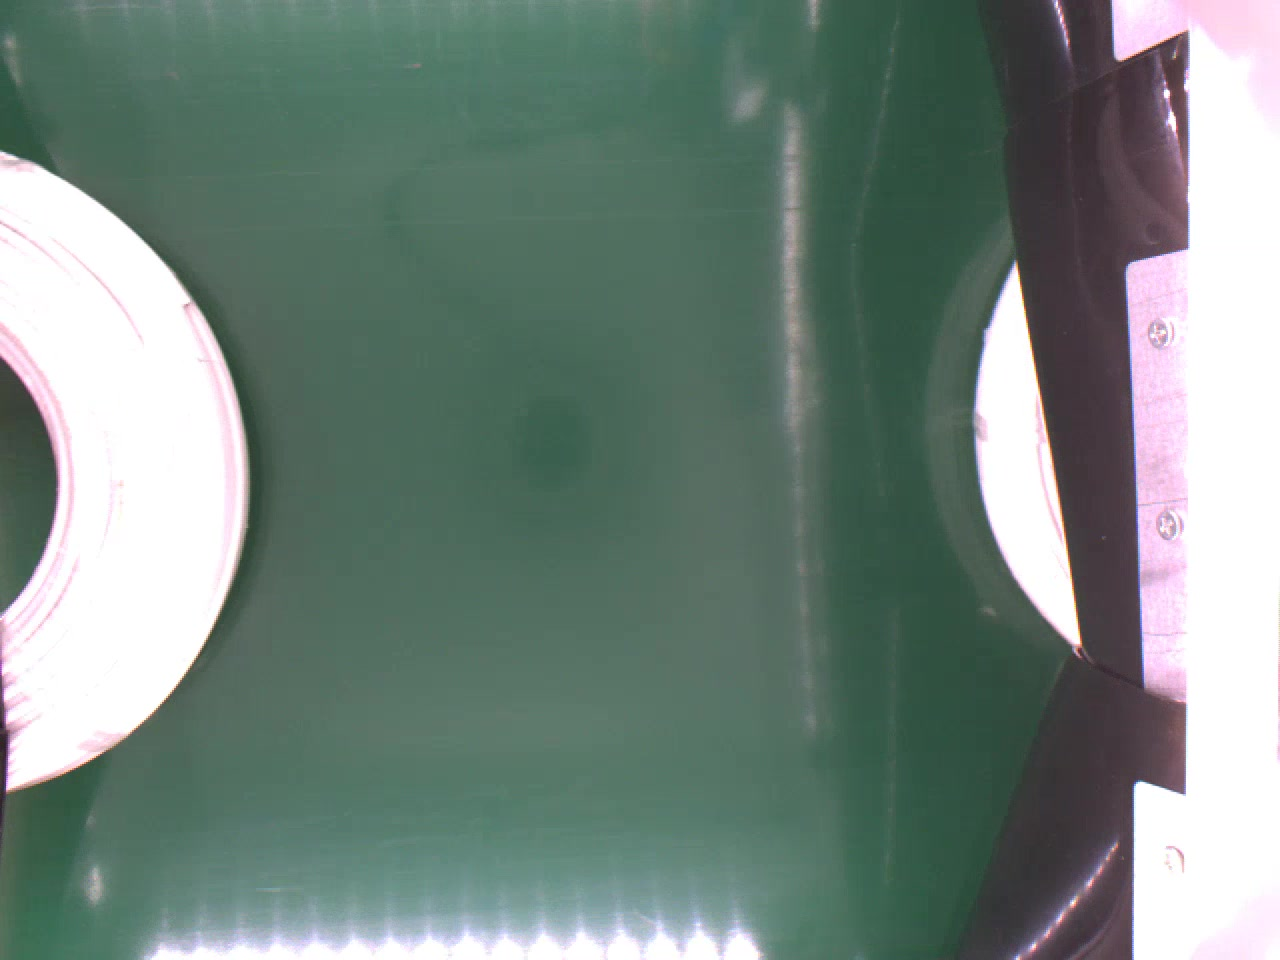white: (0, 153, 254, 794)
